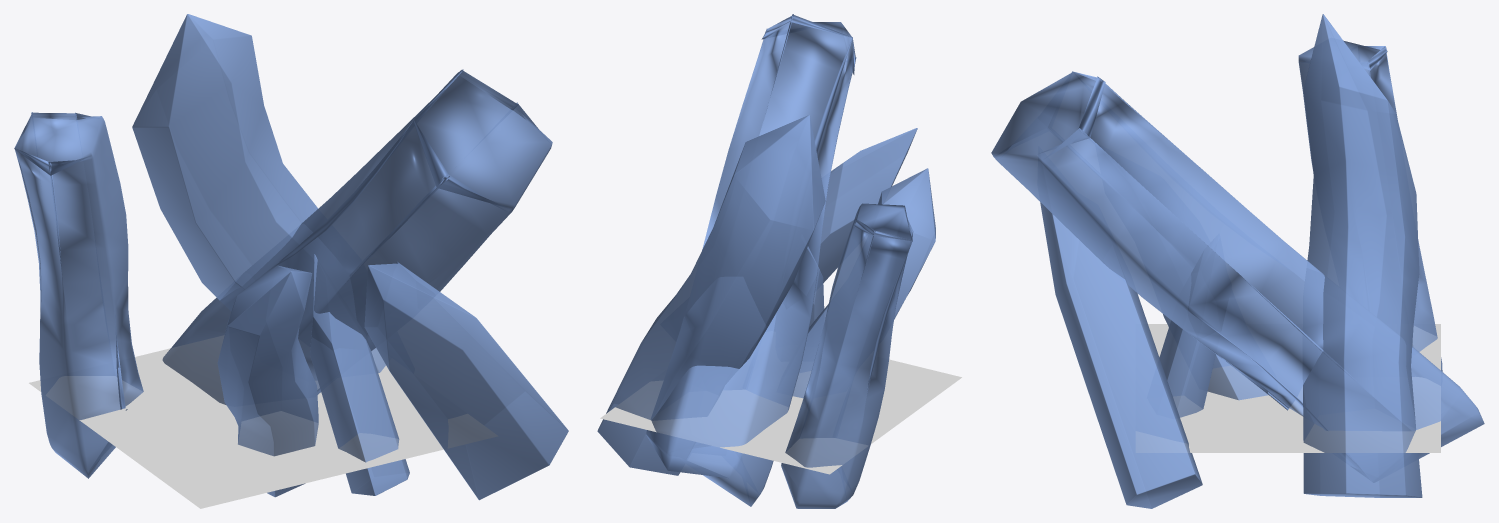
Rendered from Crystals3.fbx.
3 views of the same model, side by side, from view 1: azimuth 30°, elevation 25°; view 2: azimuth 150°, elevation 25°; view 3: azimuth 270°, elevation 25° (orthographic). The views are drawn at different scales.
Parts seen in each view (by area): view 1: Crystals3|Crystal1|Dupli|1, Crystals3|Crystal3|Dupli|5, Crystals3, Crystals3|Crystal1|Dupli|4, Crystals3|Crystal2|Dupli|, Crystals3|Crystal3|Dupli|2, Crystals3|Crystal2|Dupli|3; view 2: Crystals3|Crystal1|Dupli|1, Crystals3|Crystal3|Dupli|5, Crystals3|Crystal1|Dupli|4, Crystals3, Crystals3|Crystal2|Dupli|, Crystals3|Crystal3|Dupli|2, Crystals3|Crystal2|Dupli|3; view 3: Crystals3|Crystal1|Dupli|1, Crystals3|Crystal3|Dupli|5, Crystals3|Crystal2|Dupli|, Crystals3, Crystals3|Crystal2|Dupli|3, Crystals3|Crystal1|Dupli|4, Crystals3|Crystal3|Dupli|2.
Part boxes in pixels (bbox=[...]): Crystals3|Crystal1|Dupli|1: bbox=[162, 69, 552, 404]; Crystals3|Crystal3|Dupli|5: bbox=[132, 14, 385, 379]; Crystals3: bbox=[29, 336, 496, 508]; Crystals3|Crystal1|Dupli|4: bbox=[14, 112, 143, 478]; Crystals3|Crystal2|Dupli|: bbox=[364, 261, 568, 500]; Crystals3|Crystal3|Dupli|2: bbox=[217, 265, 318, 497]; Crystals3|Crystal2|Dupli|3: bbox=[310, 254, 409, 495]; Crystals3|Crystal1|Dupli|1: bbox=[646, 14, 856, 506]; Crystals3|Crystal3|Dupli|5: bbox=[597, 115, 825, 475]; Crystals3|Crystal1|Dupli|4: bbox=[781, 203, 913, 508]; Crystals3: bbox=[600, 359, 961, 474]; Crystals3|Crystal2|Dupli|: bbox=[818, 128, 917, 282]; Crystals3|Crystal3|Dupli|2: bbox=[792, 168, 935, 398]; Crystals3|Crystal2|Dupli|3: bbox=[783, 246, 824, 326]; Crystals3|Crystal1|Dupli|1: bbox=[991, 71, 1484, 482]; Crystals3|Crystal3|Dupli|5: bbox=[1303, 14, 1422, 497]; Crystals3|Crystal2|Dupli|: bbox=[1040, 202, 1202, 508]; Crystals3: bbox=[1136, 324, 1440, 452]; Crystals3|Crystal2|Dupli|3: bbox=[1159, 236, 1231, 417]; Crystals3|Crystal1|Dupli|4: bbox=[1298, 40, 1442, 371]; Crystals3|Crystal3|Dupli|2: bbox=[1163, 314, 1268, 400].
Size of the model in its own units: 176 by 190 by 197.
